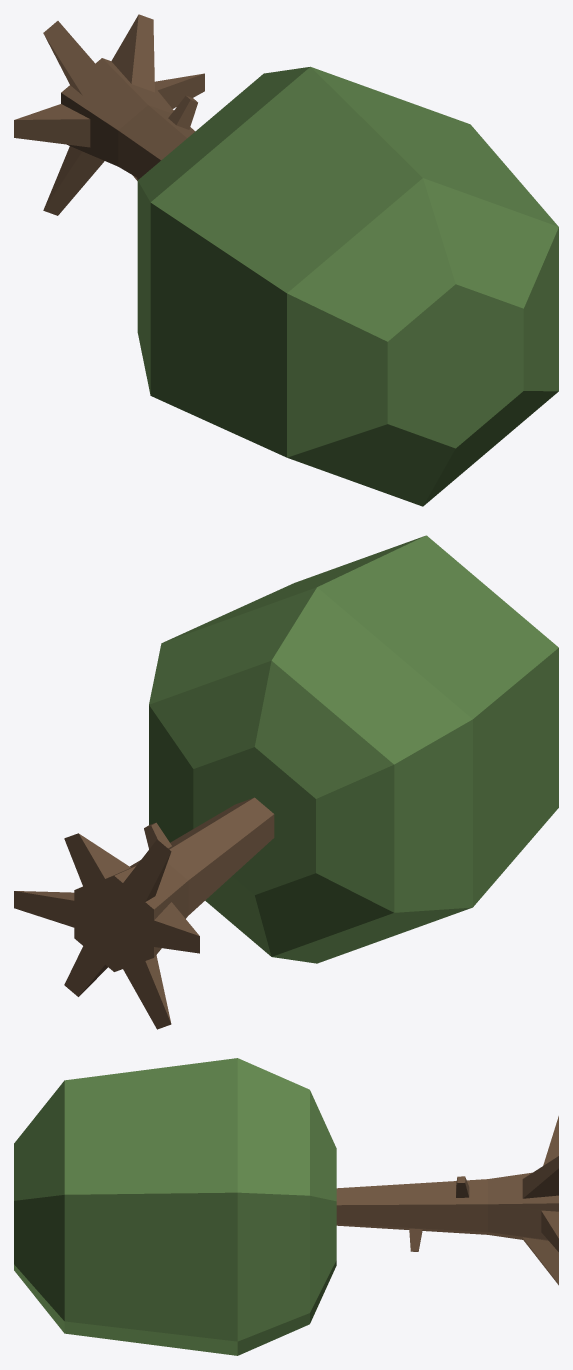
The model's file is tree-model-oak-30-ft.obj.
3 views of the same model, one above another, from view 1: azimuth 30°, elevation 25°; view 2: azimuth 150°, elevation 25°; view 3: azimuth 270°, elevation 25° (orthographic). The views are drawn at different scales.
Parts seen in each view (by area): view 1: tree-model-oak-30-ft; view 2: tree-model-oak-30-ft; view 3: tree-model-oak-30-ft.
Part boxes in pixels (x1,y1,x2,y2): tree-model-oak-30-ft: (14, 14, 558, 506); tree-model-oak-30-ft: (14, 535, 558, 1029); tree-model-oak-30-ft: (14, 1058, 558, 1355).
Size of the model in its own units: 188 by 217 by 360.
